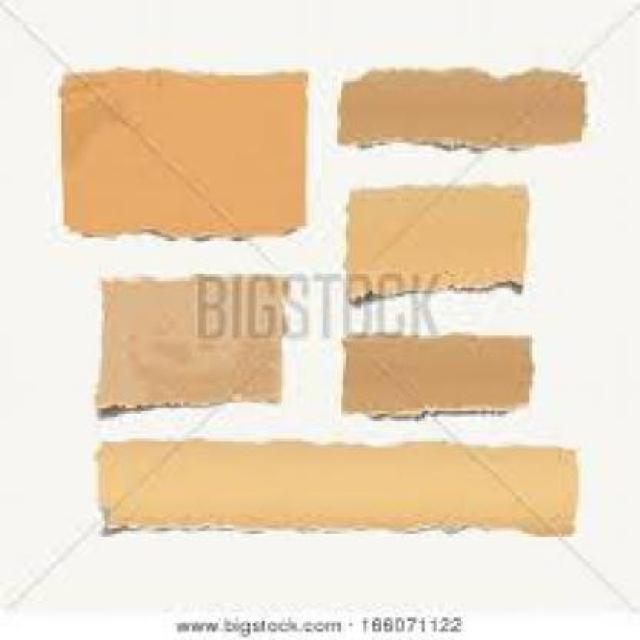CARDBOARD: (96, 433, 576, 542), (54, 67, 306, 238), (96, 268, 282, 410), (341, 179, 524, 299), (334, 64, 586, 148), (340, 332, 532, 417)
